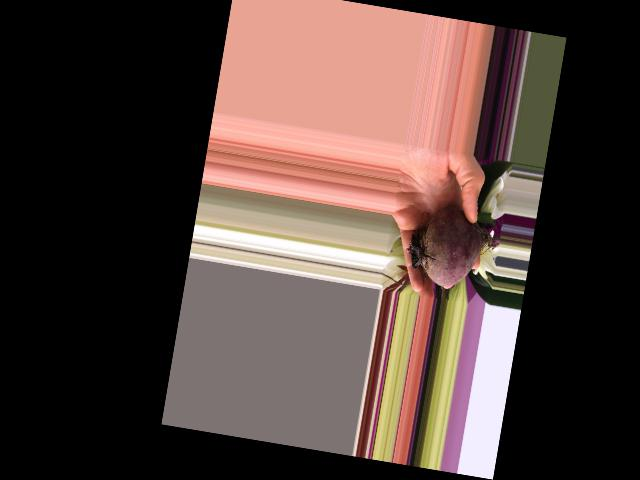beet: (401, 201, 504, 295)
